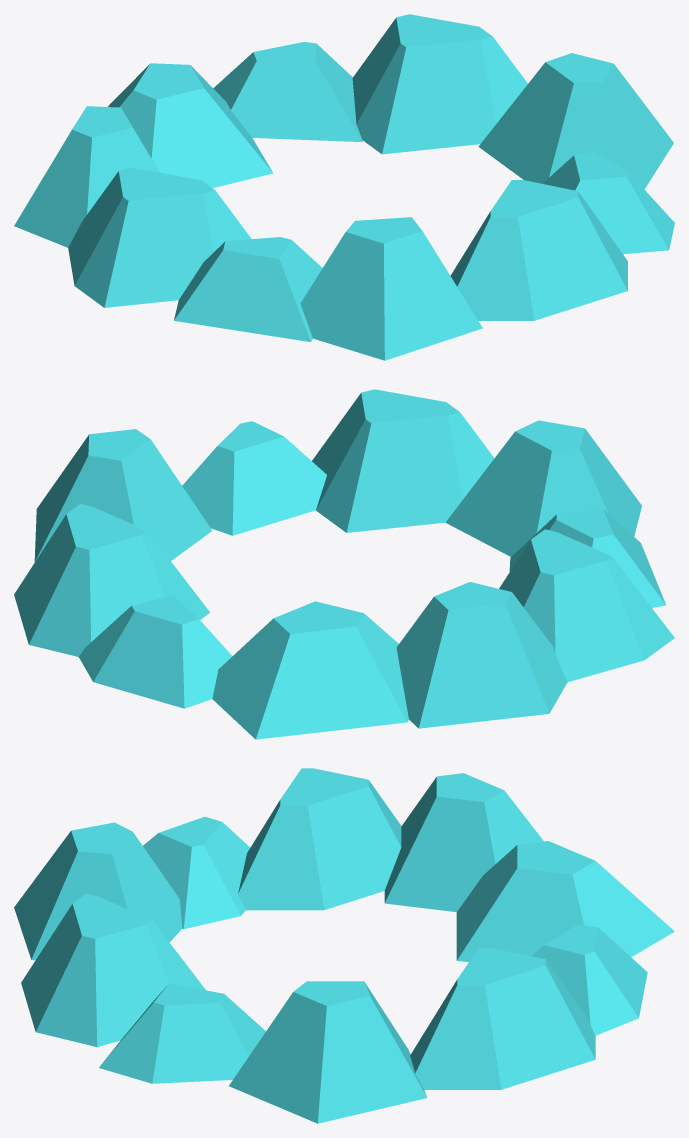
Rendered from FertilizerC.fbx.
The picture shows the model from 3 angles, top to bottom: view 1: azimuth 30°, elevation 25°; view 2: azimuth 150°, elevation 25°; view 3: azimuth 270°, elevation 25°; orthographic projection. The views are drawn at different scales.
Parts seen in each view (by area): view 1: campfire_stones; view 2: campfire_stones; view 3: campfire_stones.
Part boxes in pixels (x1,y1,x2,y2): campfire_stones: (14,14,674,360); campfire_stones: (14,389,674,739); campfire_stones: (14,768,674,1123).
Bounding box in the file's own units: 13.52 × 1.94 × 12.89.
